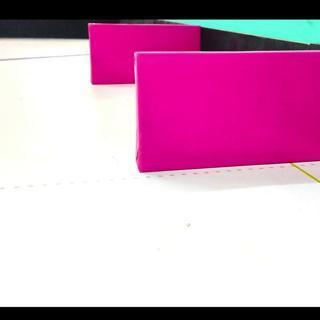xparking: (138, 52, 319, 174), (90, 24, 134, 86)
